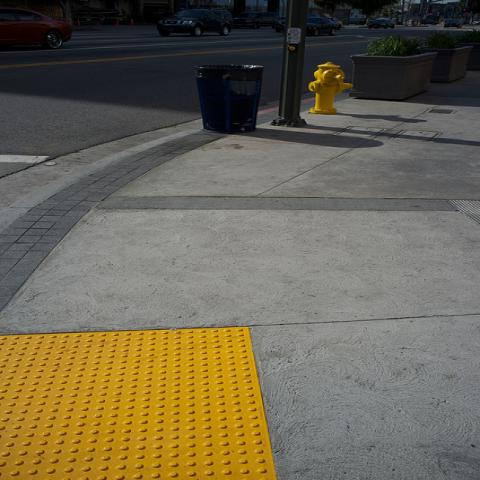car: (0, 7, 72, 51), (158, 8, 234, 38), (233, 9, 276, 30), (304, 16, 339, 37), (368, 18, 396, 30), (444, 18, 463, 28), (339, 17, 364, 24), (420, 19, 438, 25)
